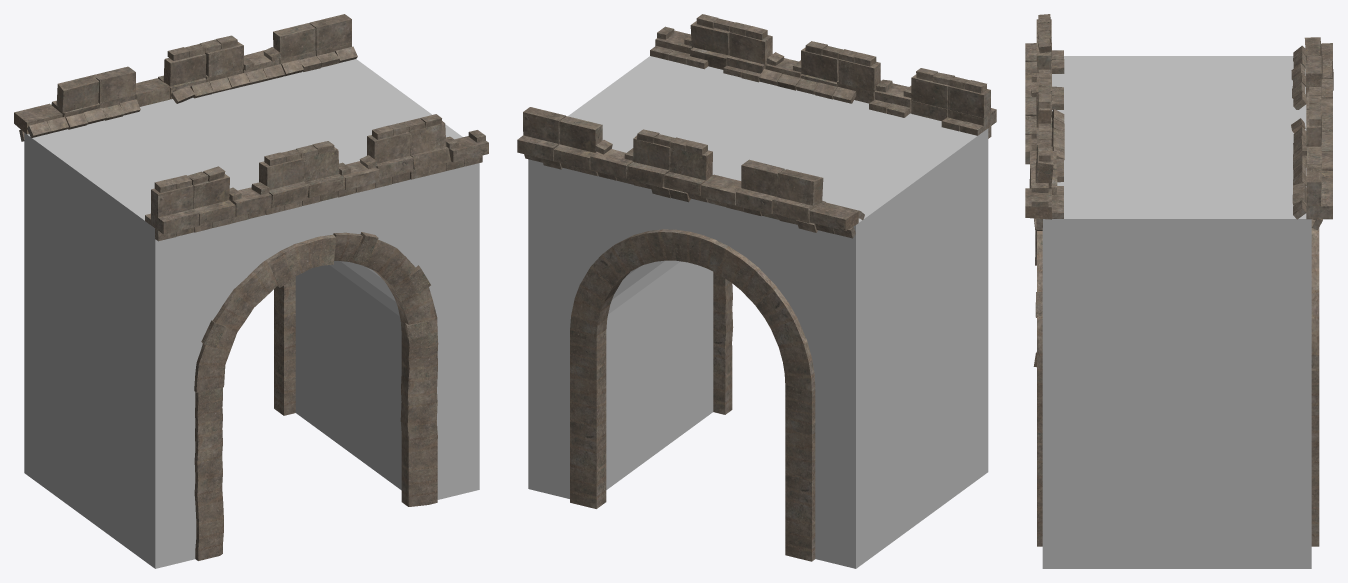
Rendered from SM_Bridge01.FBX.
3 views of the same model, side by side, from view 1: azimuth 30°, elevation 25°; view 2: azimuth 150°, elevation 25°; view 3: azimuth 270°, elevation 25° (orthographic). The views are drawn at different scales.
Visible parts, largest first — view 1: SM_Bridge01; view 2: SM_Bridge01; view 3: SM_Bridge01.
Part boxes in pixels (bbox=[...]): SM_Bridge01: bbox=[14, 14, 488, 568]; SM_Bridge01: bbox=[517, 14, 996, 568]; SM_Bridge01: bbox=[1025, 14, 1333, 568].
Size of the model in its own units: 1809 by 1445 by 2038.
